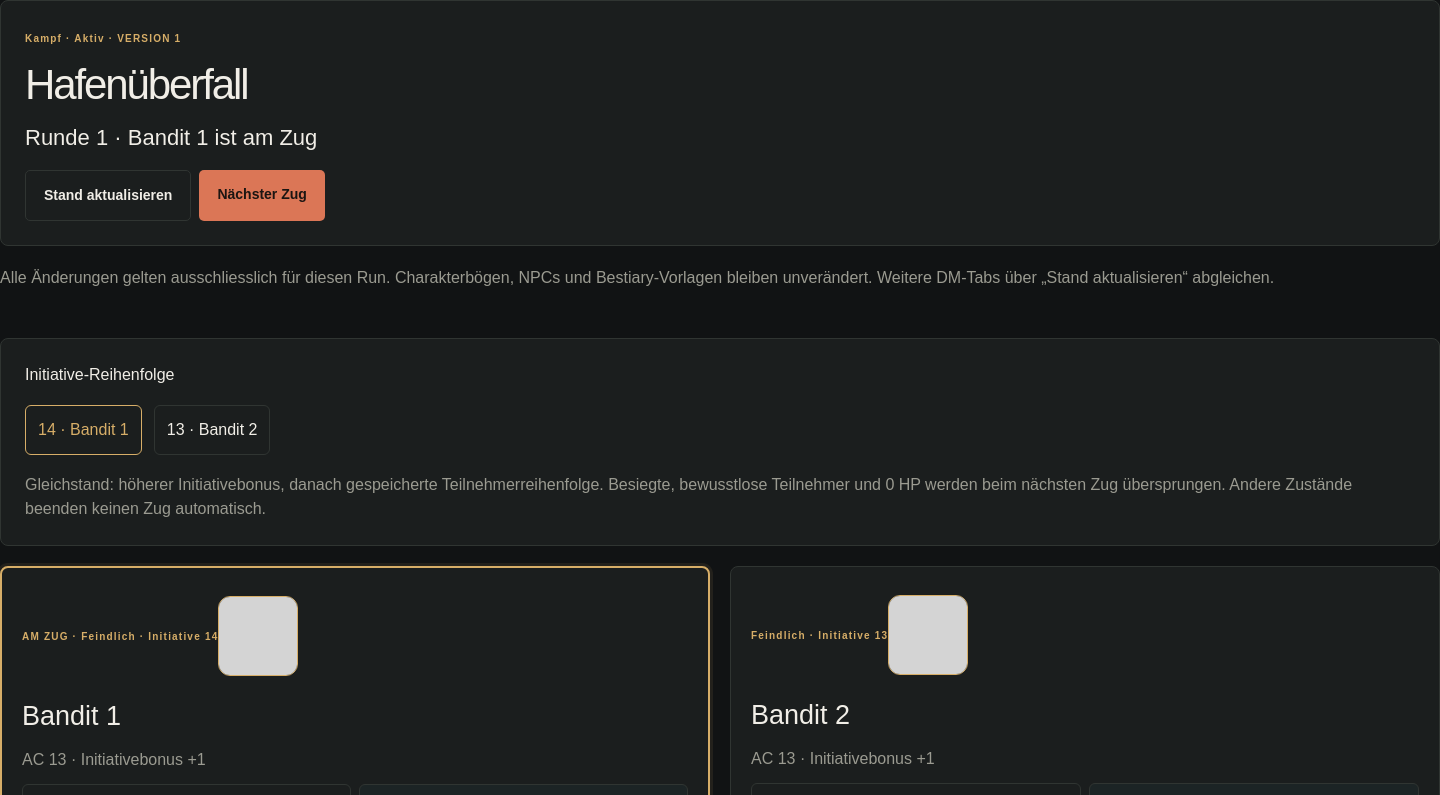
Test case: shows conflicts without changing values and reloads persisted server state
The image size is (1440, 795).
Click the button "Nächster Zug" at (262, 195), box x1=199 y1=170 x2=325 y2=221
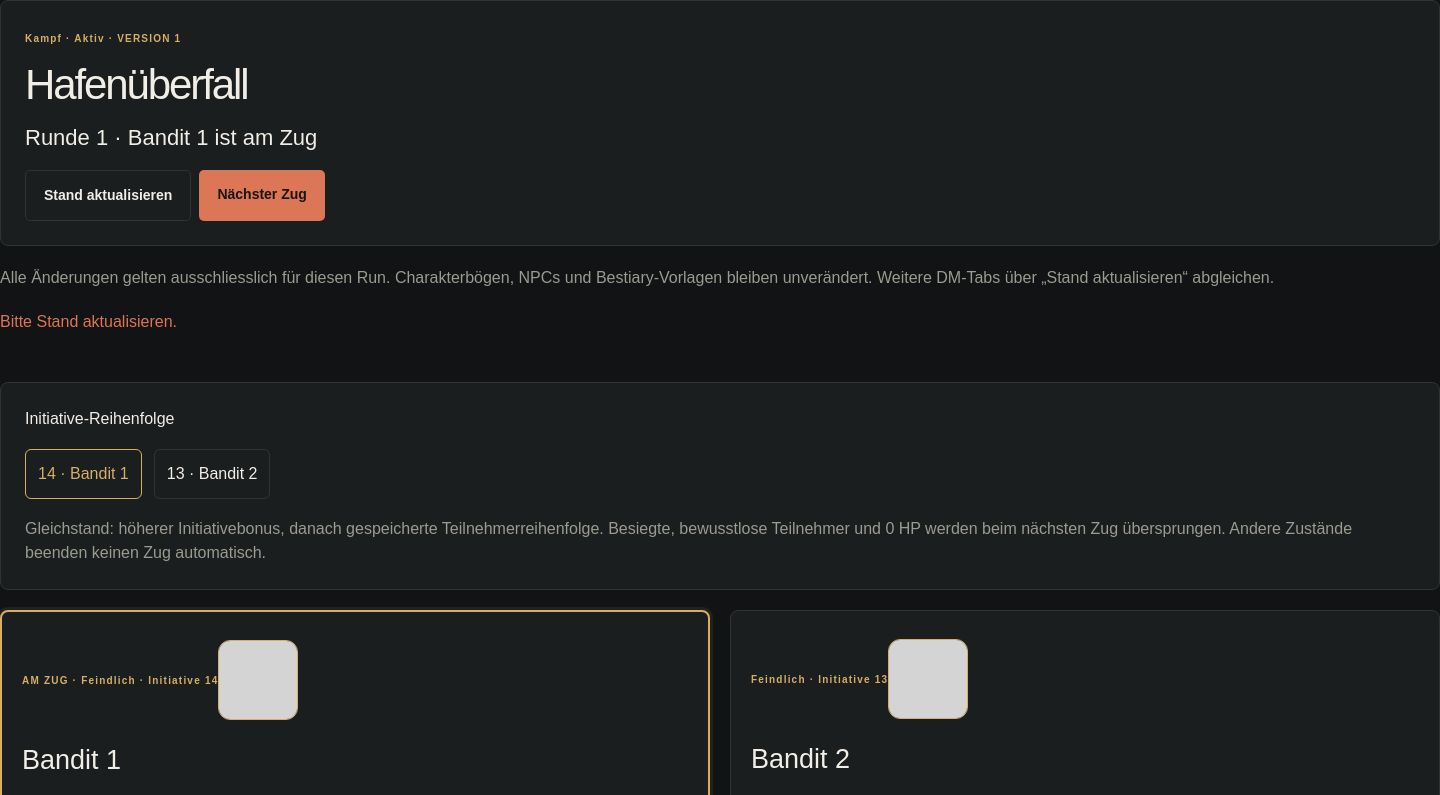
expect the message shows "Stand aktualisieren": met, box x1=0 y1=313 x2=177 y2=330
Click the button "Stand aktualisieren" at (108, 195), box x1=25 y1=170 x2=191 y2=221
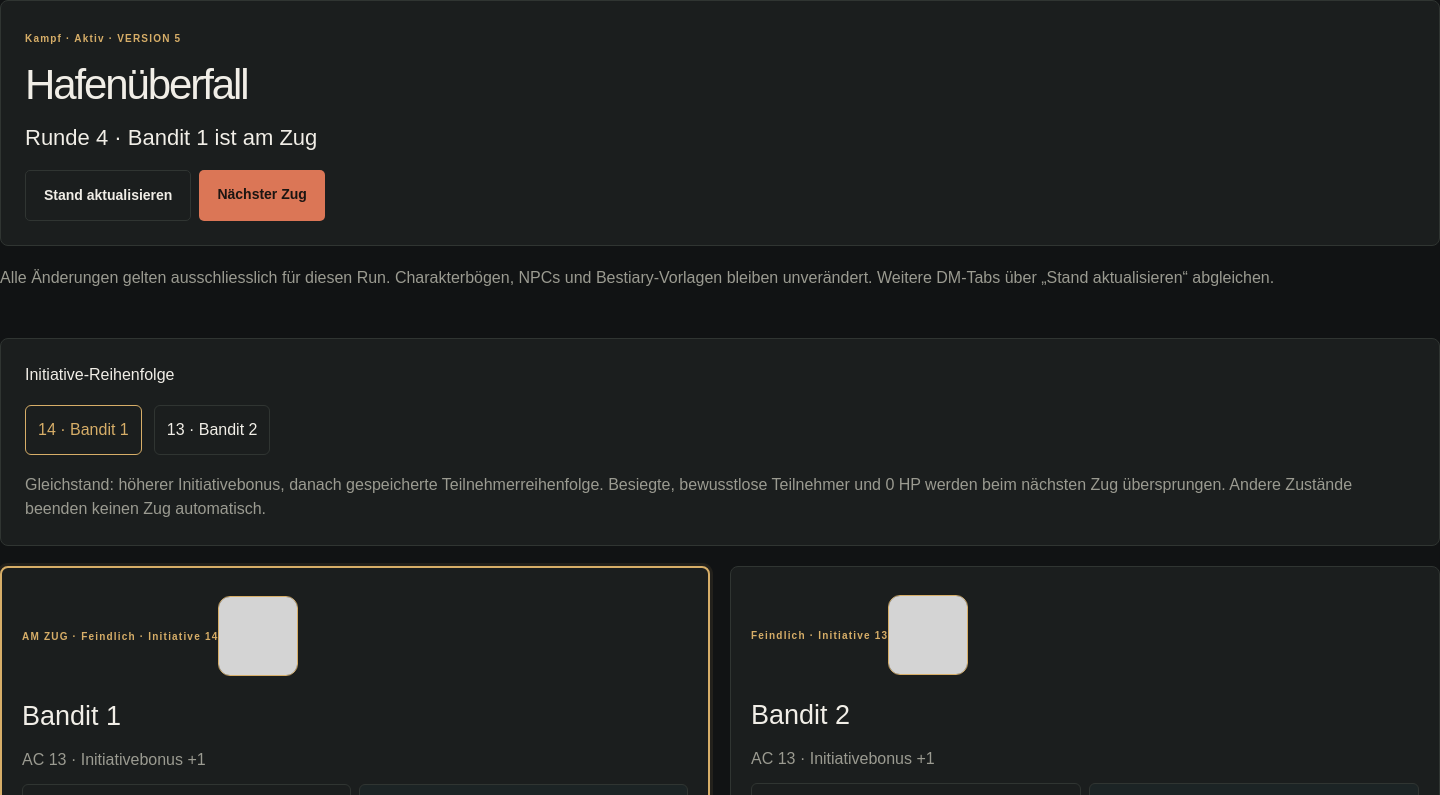
expect the heading "Runde 4 · Bandit 1 ist am Zug" is shown: met, box x1=25 y1=125 x2=317 y2=150
